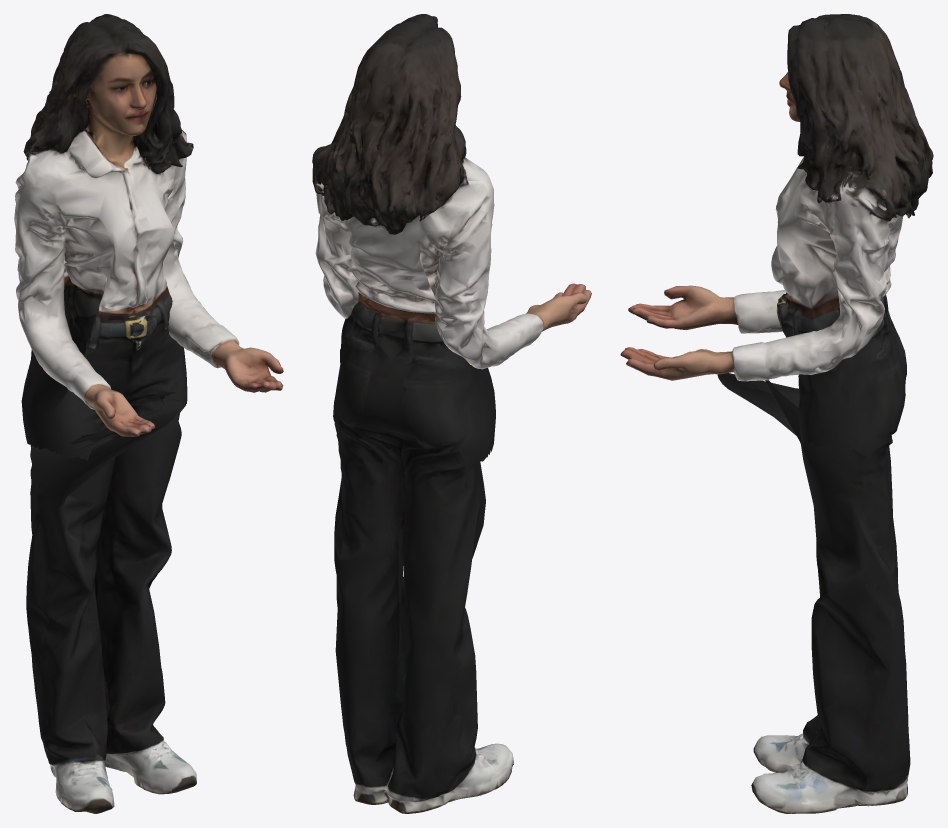
3 views of the same model, side by side, from view 1: azimuth 30°, elevation 25°; view 2: azimuth 150°, elevation 25°; view 3: azimuth 270°, elevation 25° (orthographic). The views are drawn at different scales.
Size of the model in its own units: 0.388 by 1.63 by 0.6004.
1 material, 1 textured.
